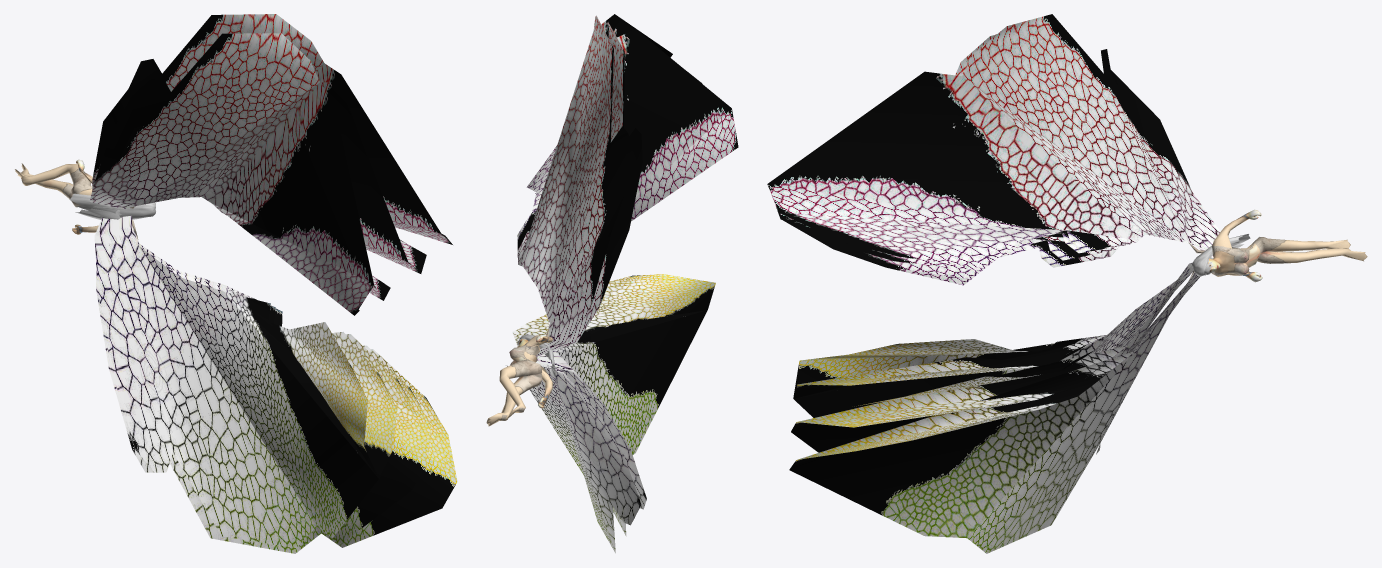
Rendered from angel_000204.obj.
3 renders of one model, left to right at view 1: azimuth 30°, elevation 25°; view 2: azimuth 150°, elevation 25°; view 3: azimuth 270°, elevation 25°, orthographic. The views are drawn at different scales.
Parts seen in each view (by area): view 1: wings_Plane.001, body.001_omino.012, hair.003_omino.013; view 2: wings_Plane.001, body.001_omino.012; view 3: wings_Plane.001, body.001_omino.012.
Part boxes in pixels (x1,y1,x2,y2): wings_Plane.001: [89, 14, 457, 553]; body.001_omino.012: [15, 159, 138, 239]; hair.003_omino.013: [69, 193, 155, 219]; wings_Plane.001: [506, 14, 738, 553]; body.001_omino.012: [486, 325, 552, 426]; wings_Plane.001: [767, 14, 1220, 553]; body.001_omino.012: [1188, 209, 1367, 282].
Size of the model in its own units: 3.55 by 8.94 by 9.29.
